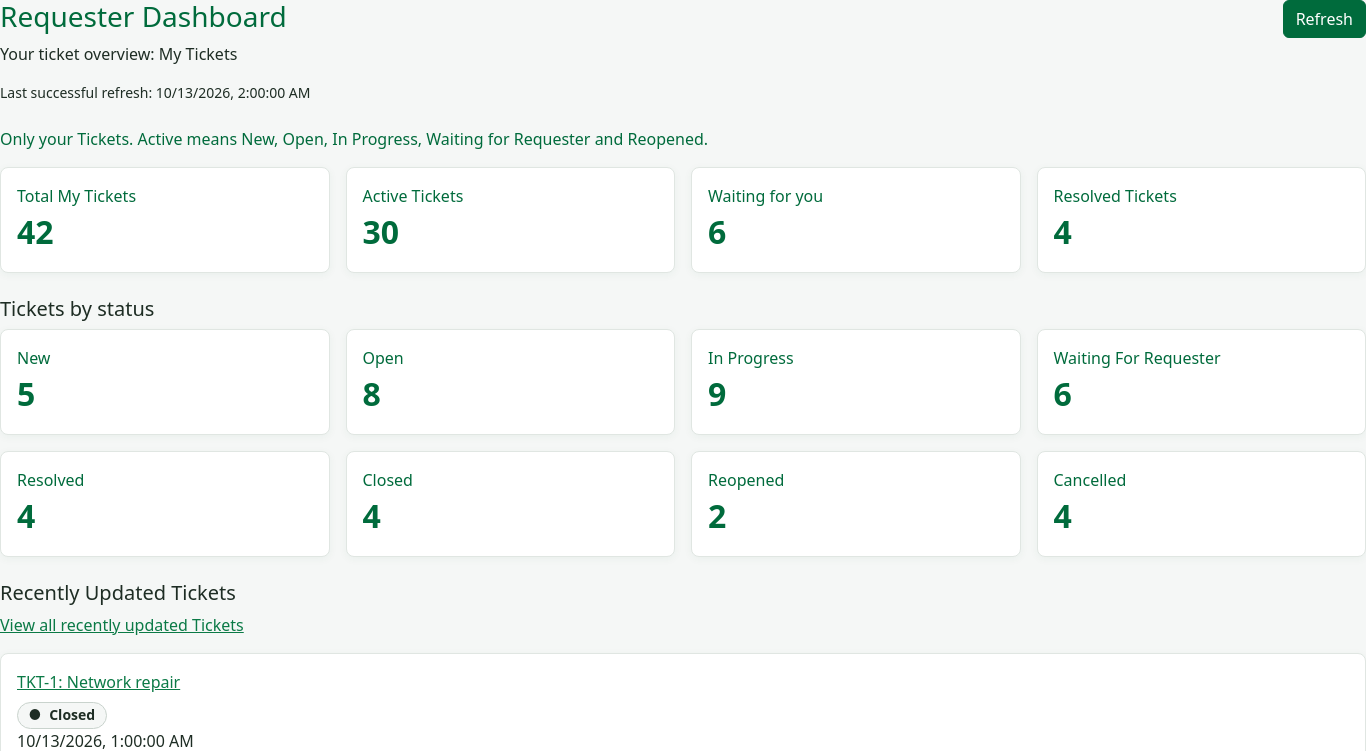
Test case: recoverable refresh failure retains real metrics without an access event
This screenshot has width=1366, height=751.
Expected: the link "Total My Tickets 42" is shown, top-left (0, 167), bottom-right (330, 273)
Click the button "Refresh". click: click(1324, 19)
box: top-left (1283, 0), bottom-right (1365, 38)
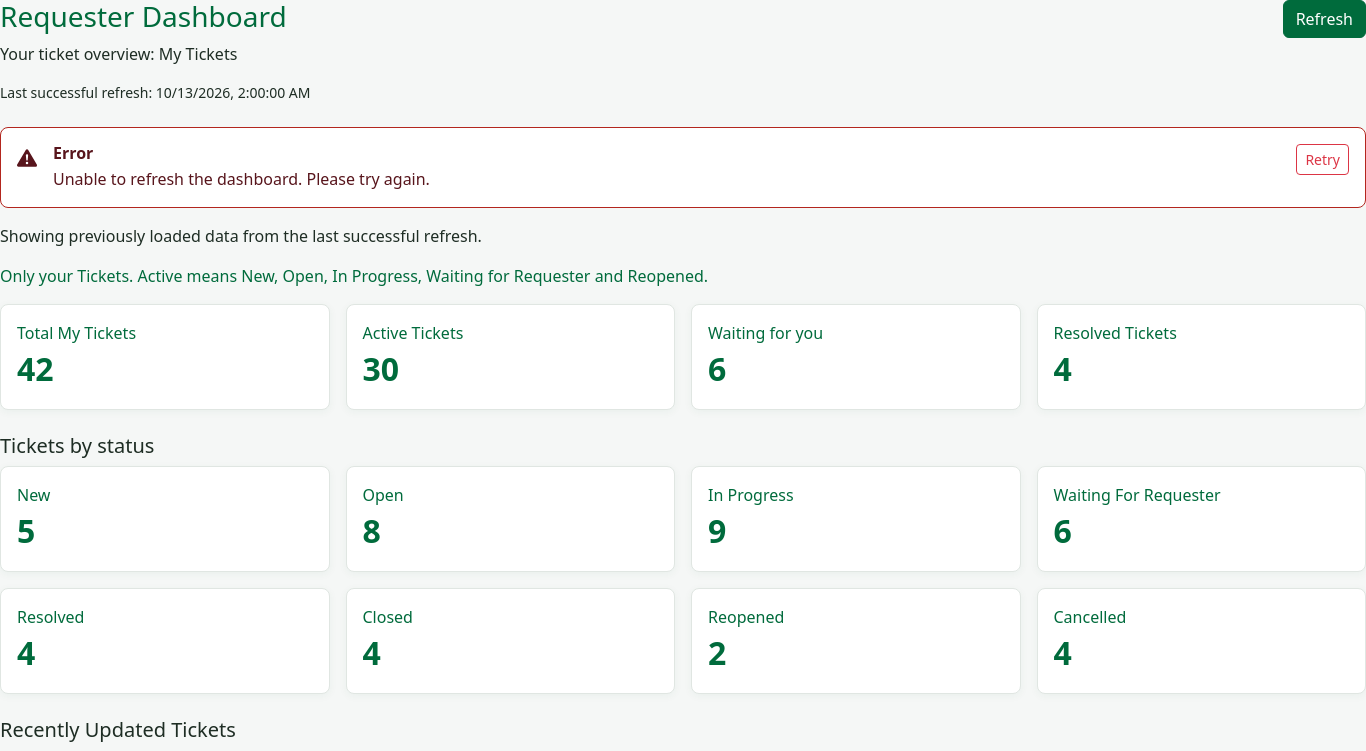
Expected: the link "Total My Tickets 42" is shown, top-left (0, 304), bottom-right (330, 410)
Expected: the message "Error Unable to refresh the dashboard. Please try again. Retry" is shown, top-left (0, 127), bottom-right (1365, 208)
